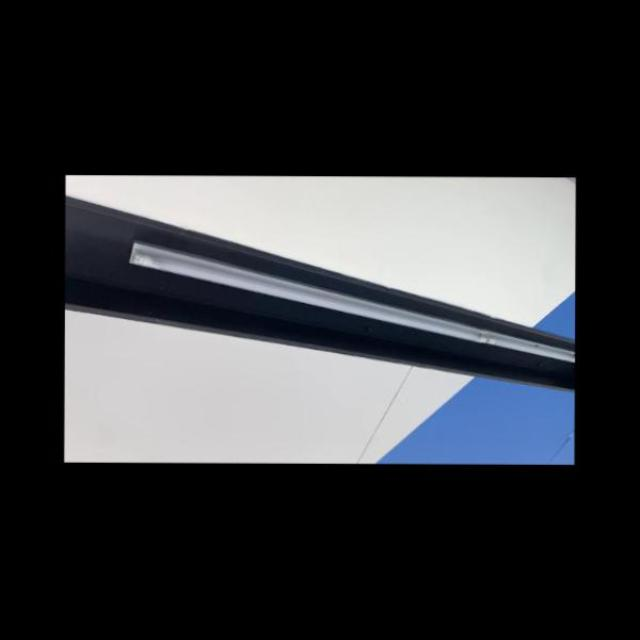Straight-Tube-Fluorescent-Lamp: (121, 222, 575, 400)
